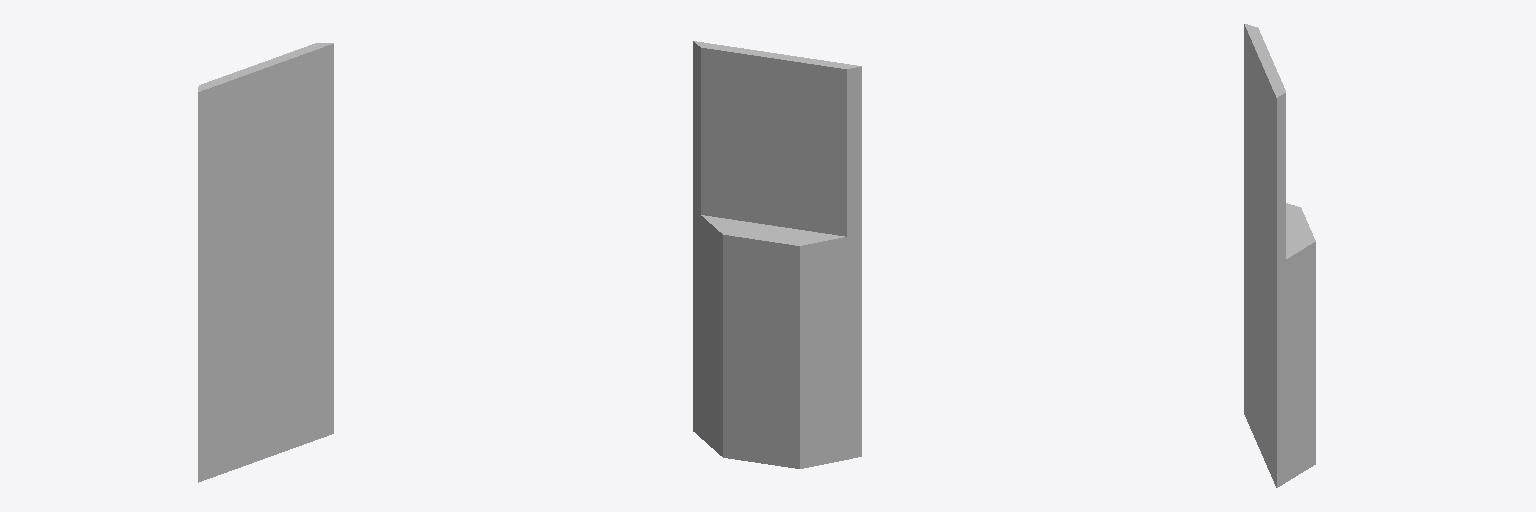
File: Potard_Support.obj
The picture shows the model from 3 angles: view 1: azimuth 30°, elevation 25°; view 2: azimuth 150°, elevation 25°; view 3: azimuth 270°, elevation 25°; orthographic projection.
Parts seen in each view (by area): view 1: Potard_Support_Support.001_Cube.001; view 2: Potard_Support_Support.001_Cube.001; view 3: Potard_Support_Support.001_Cube.001.
Boxes of the visible parts, x1=… form: Potard_Support_Support.001_Cube.001: x1=198, y1=43, x2=333, y2=482; Potard_Support_Support.001_Cube.001: x1=693, y1=41, x2=861, y2=468; Potard_Support_Support.001_Cube.001: x1=1244, y1=24, x2=1315, y2=487.
Bounding box in the file's own units: 0.5737 × 1.4 × 0.2335.